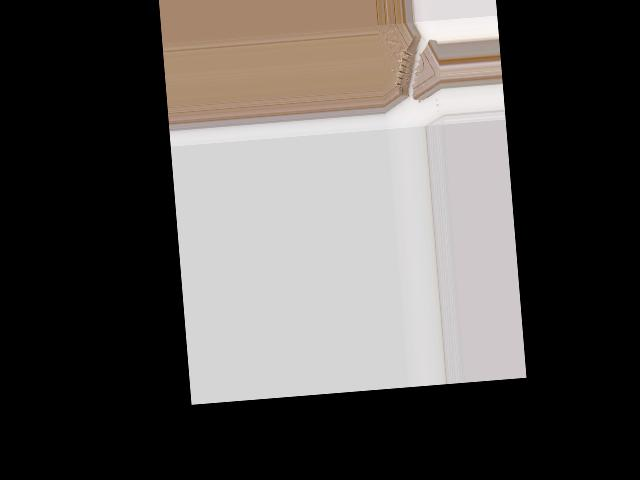chocolate: (379, 21, 443, 114)
